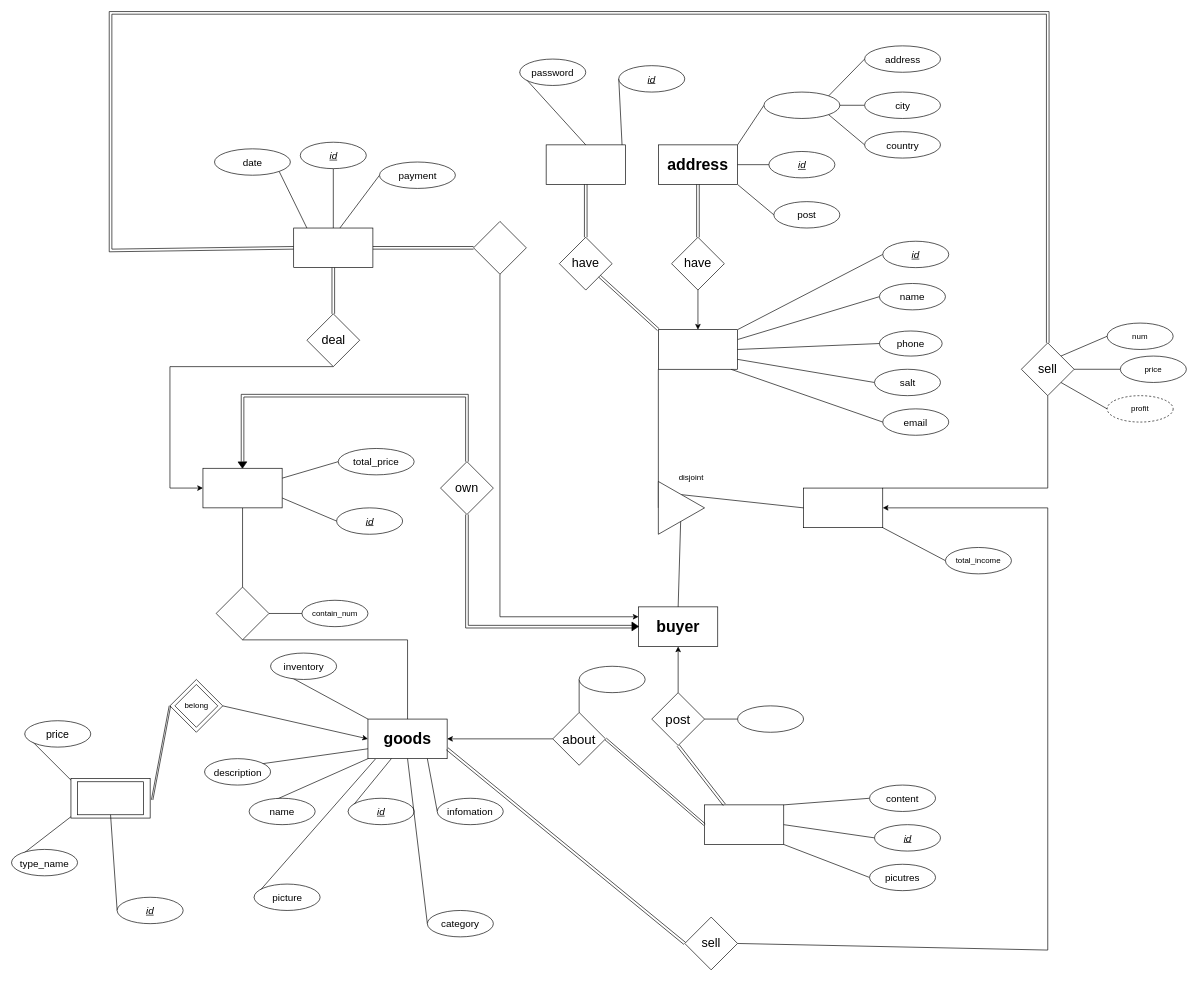
Image size: 1198x981. Some labels were removed from this diagram. Each missing label, with the centre of its shape:
"address_detail" belongs at (x=801, y=104).
"comment" belongs at (x=744, y=824).
"contain" belongs at (x=242, y=613).
"ISA" belongs at (x=681, y=507).
"pay" belongs at (x=499, y=247).
"post_date" belongs at (x=770, y=718).
"purchase" belongs at (x=333, y=247).
"rating" belongs at (x=611, y=679).
"security" belongs at (x=585, y=164).
"seller" belongs at (x=843, y=507).
"shopping cart" belongs at (x=242, y=488).
"type" belongs at (x=110, y=798).
"user" belongs at (x=698, y=349).
